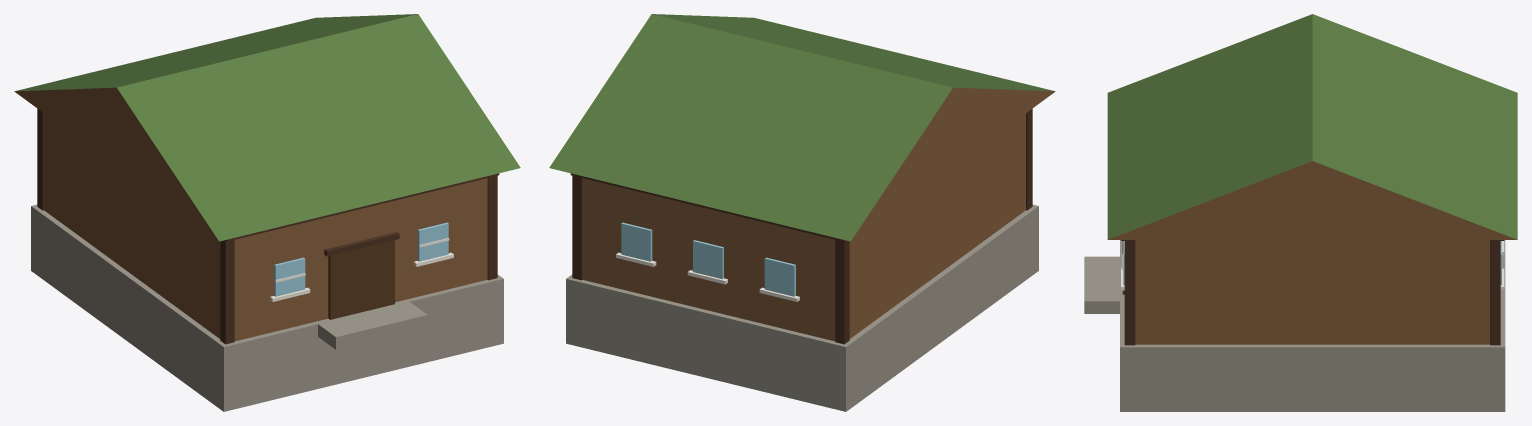
Rendered from storage_bld.glb.
3 views of the same model, side by side, from view 1: azimuth 30°, elevation 25°; view 2: azimuth 150°, elevation 25°; view 3: azimuth 270°, elevation 25° (orthographic).
Visible parts, largest first — view 1: storage_bld-col; view 2: storage_bld-col; view 3: storage_bld-col.
Boxes of the visible parts, left/top/right/bottom form: storage_bld-col: left=14, top=14, right=520, bottom=411; storage_bld-col: left=549, top=14, right=1055, bottom=411; storage_bld-col: left=1084, top=14, right=1517, bottom=411.
Size of the model in its own units: 11.2 by 9.1 by 13.95.
